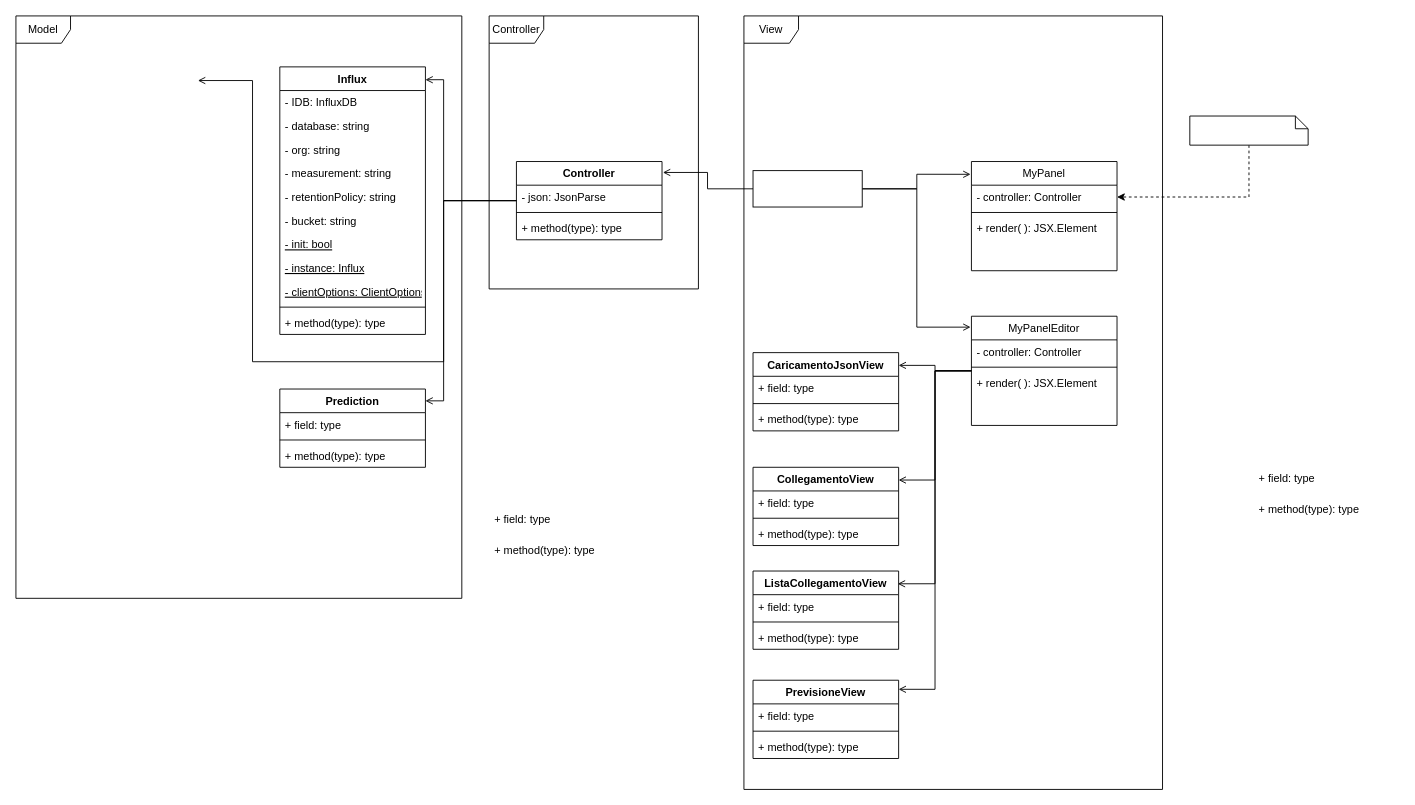
Image size: 1415x805. Some labels were removed from this diagram. Each missing label, with the centre of its shape:
PanelPlugin: pixel 807 188
Potrebbe non essere necessario il controller: pixel 1248 130
